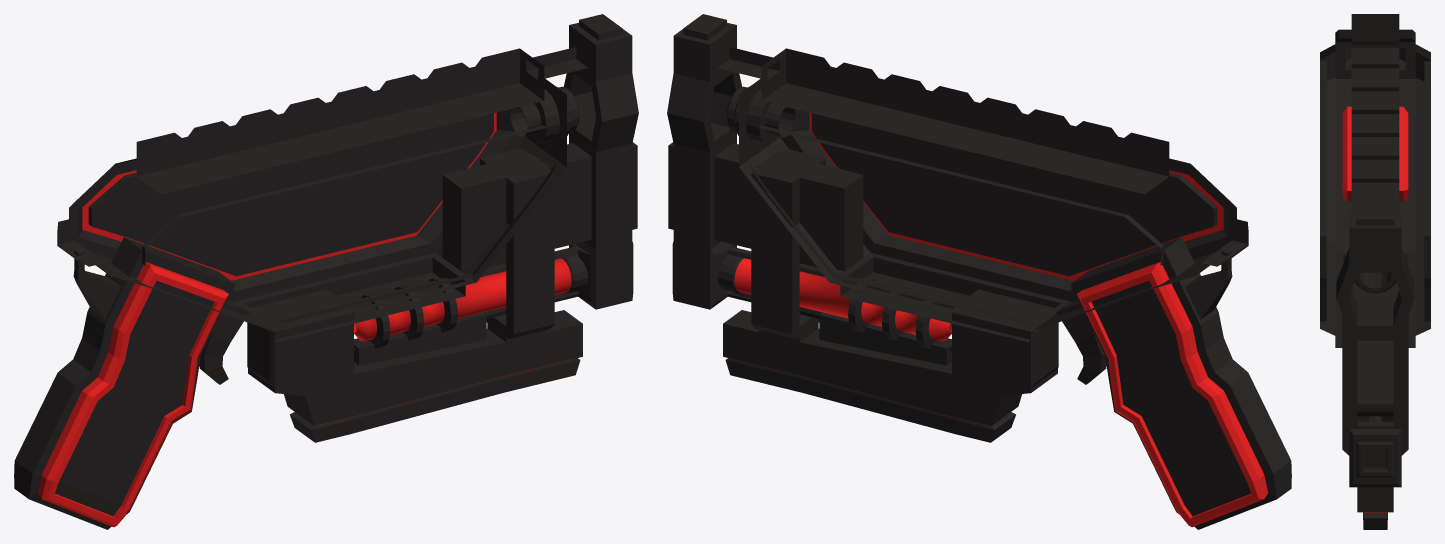
The model's file is pistol01.glb.
The picture shows the model from 3 angles, left to right: view 1: azimuth 30°, elevation 25°; view 2: azimuth 150°, elevation 25°; view 3: azimuth 270°, elevation 25°; orthographic projection. The views are drawn at different scales.
Parts seen in each view (by area): view 1: Gun.002; view 2: Gun.002; view 3: Gun.002.
Part boxes in pixels (x1,y1,x2,y2): Gun.002: (14,14,638,529); Gun.002: (667,14,1291,529); Gun.002: (1320,14,1430,529).
Bounding box in the file's own units: 0.353 × 0.2104 × 0.0571.
Materials: 1 (1 with a texture image).
